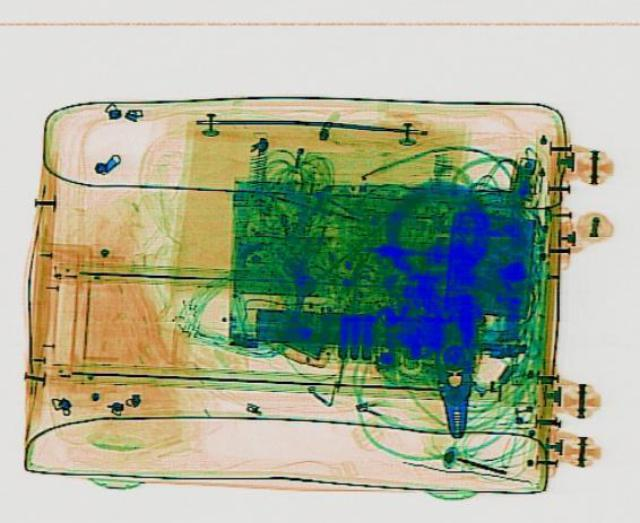Pliers: (438, 302, 477, 437)
